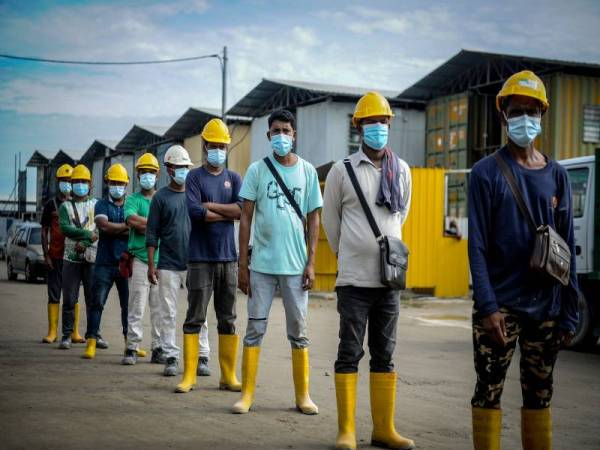No Safety Helmet: (263, 108, 298, 158)
Safety Helmet: (495, 66, 551, 152), (347, 88, 400, 155), (197, 117, 235, 171), (163, 141, 189, 182), (103, 163, 131, 201), (137, 153, 161, 193), (71, 164, 91, 200), (50, 164, 68, 196)
